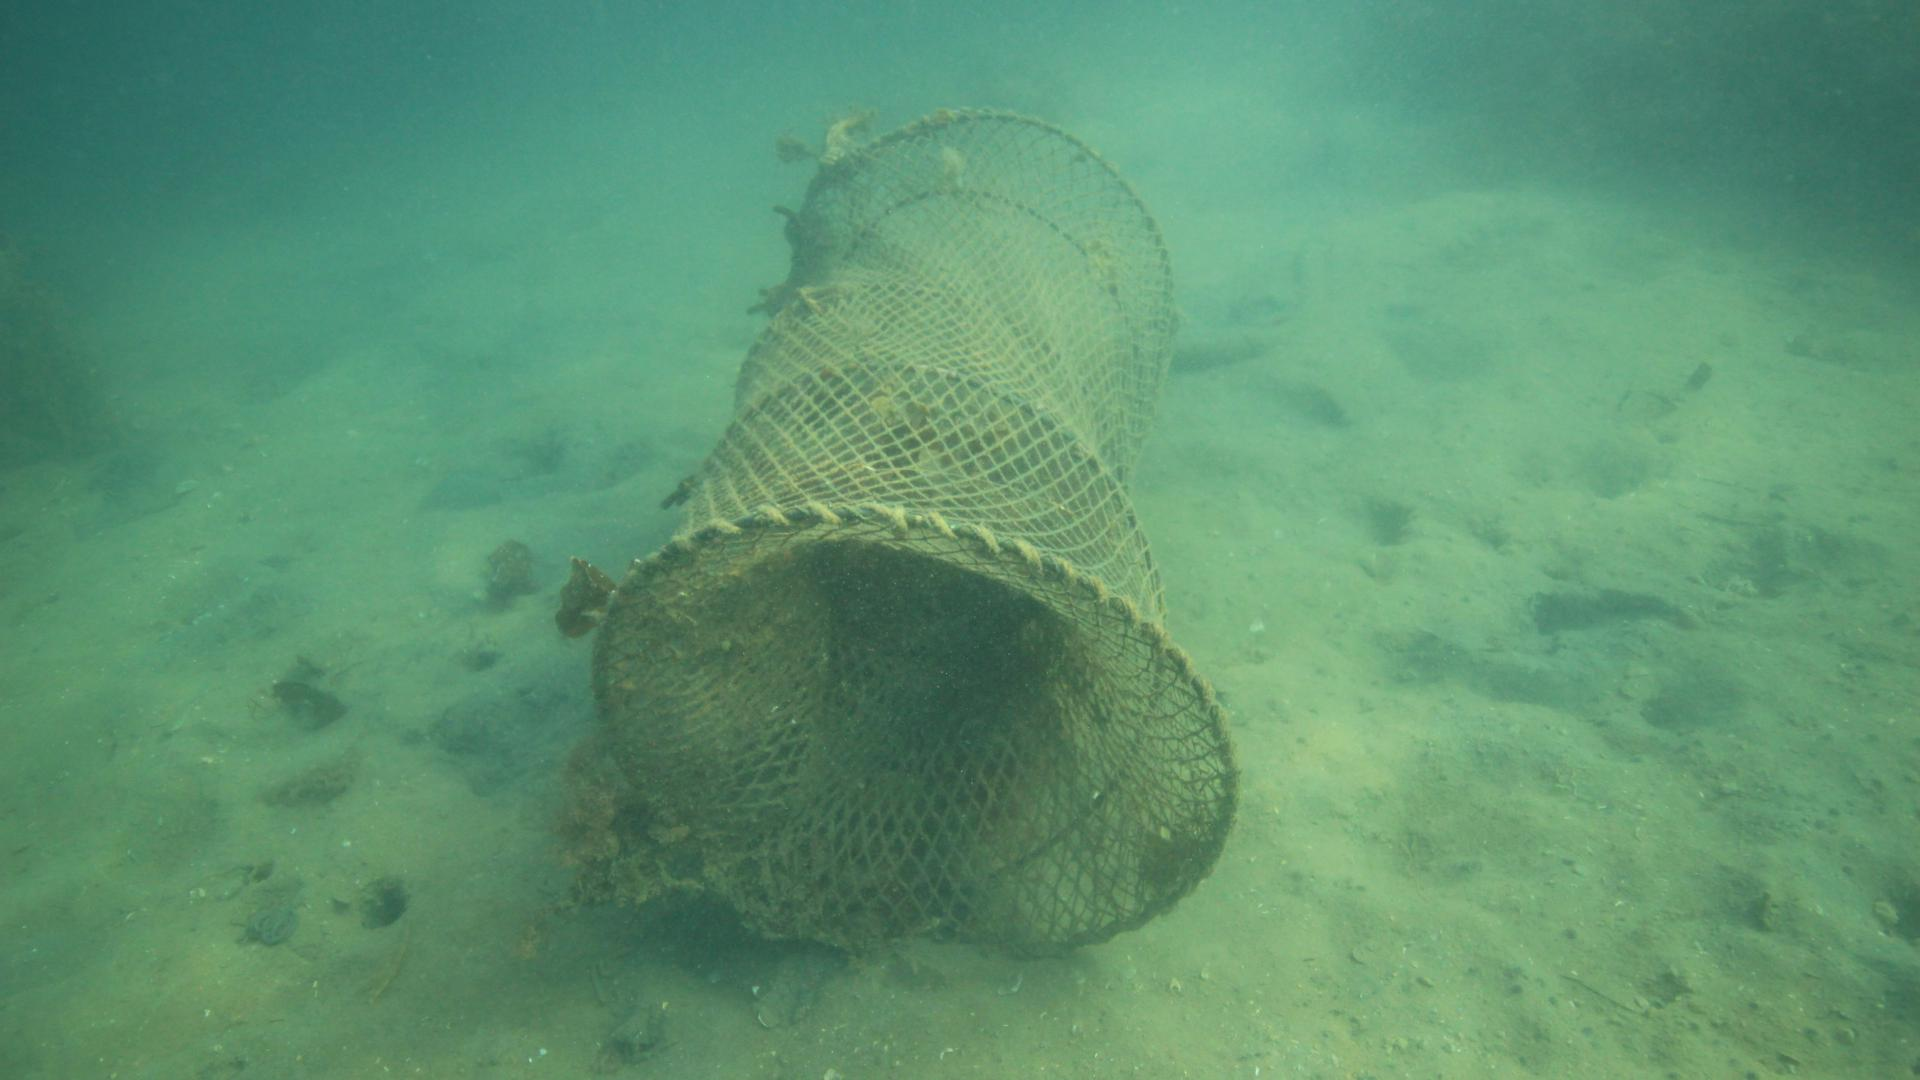spring fish trap: (588, 105, 1241, 975)
